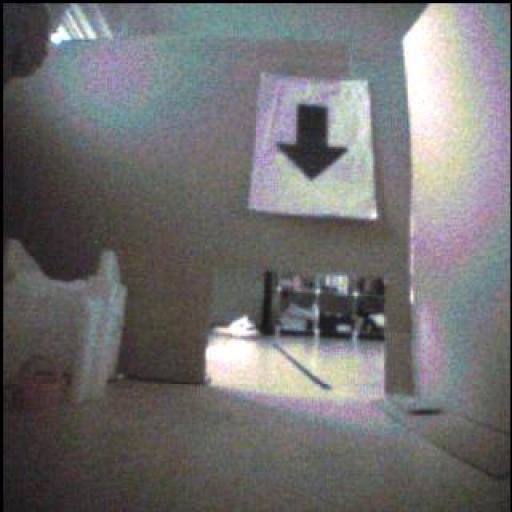arrow: (278, 105, 348, 180)
